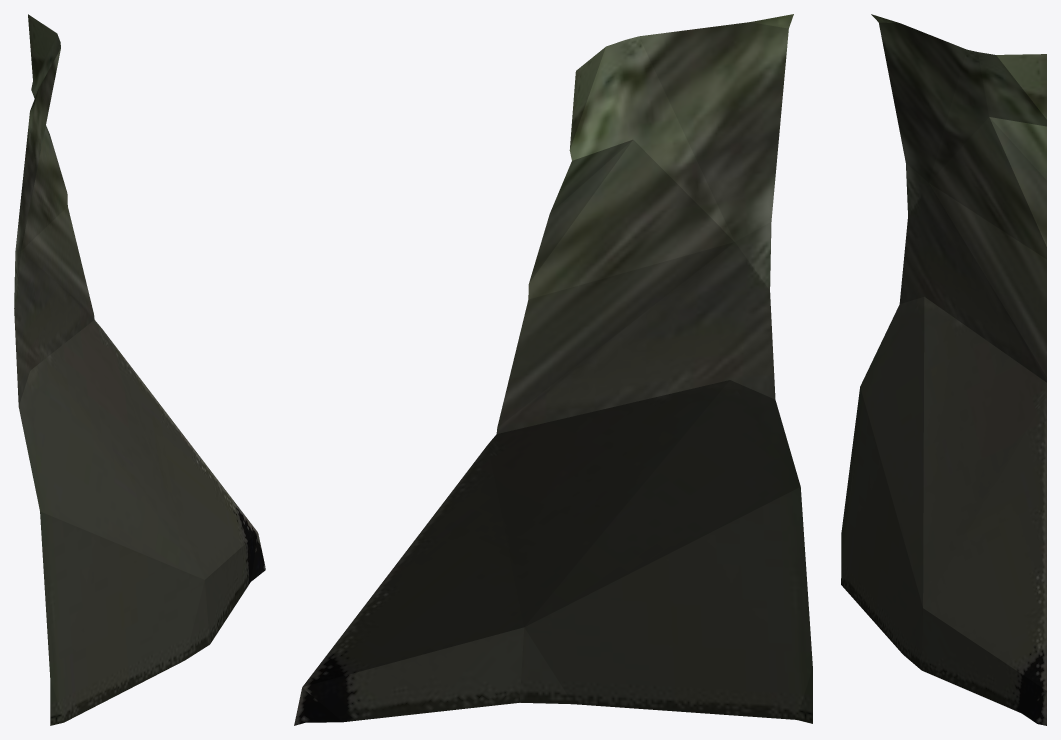
The picture shows the model from 3 angles, left to right: view 1: azimuth 30°, elevation 25°; view 2: azimuth 150°, elevation 25°; view 3: azimuth 270°, elevation 25°; orthographic projection. The views are drawn at different scales.
Bounding box in the file's own units: 3.3 × 5.9 × 1.95.
1 material, 1 textured.
